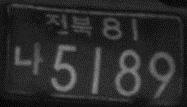1: (91, 45, 104, 94), (129, 17, 141, 42)
5: (50, 43, 77, 93)
8: (114, 49, 143, 98), (101, 16, 122, 41)
9: (148, 51, 175, 99)
나: (14, 39, 44, 75)
전북_O: (44, 12, 92, 40)
